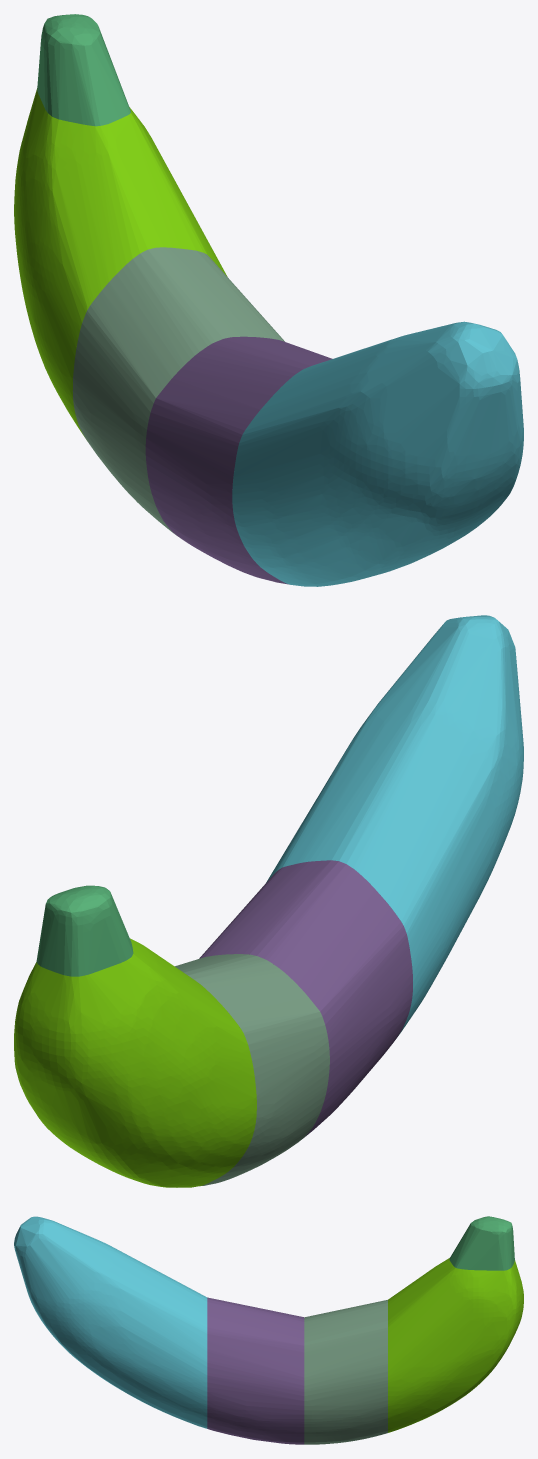
Rendered from coacd_collision.obj.
3 renders of one model, top to bottom at view 1: azimuth 30°, elevation 25°; view 2: azimuth 150°, elevation 25°; view 3: azimuth 270°, elevation 25°, orthographic. The views are drawn at different scales.
Parts seen in each view (by area): view 1: geometry_2, geometry_4, geometry_0, geometry_1, geometry_3; view 2: geometry_2, geometry_4, geometry_1, geometry_0, geometry_3; view 3: geometry_2, geometry_4, geometry_1, geometry_0, geometry_3.
Part boxes in pixels (left/top/right/bottom): geometry_2: left=232, top=321, right=523, bottom=586; geometry_4: left=14, top=88, right=227, bottom=436; geometry_0: left=72, top=247, right=284, bottom=535; geometry_1: left=145, top=336, right=332, bottom=584; geometry_3: left=37, top=14, right=130, bottom=126; geometry_2: left=266, top=615, right=523, bottom=1035; geometry_4: left=14, top=938, right=256, bottom=1187; geometry_1: left=199, top=860, right=412, bottom=1137; geometry_0: left=175, top=954, right=329, bottom=1186; geometry_3: left=36, top=885, right=133, bottom=976; geometry_2: left=14, top=1216, right=207, bottom=1428; geometry_4: left=388, top=1258, right=523, bottom=1432; geometry_1: left=207, top=1297, right=304, bottom=1444; geometry_0: left=304, top=1300, right=387, bottom=1444; geometry_3: left=449, top=1216, right=514, bottom=1270.
Bounding box in the file's own units: 39.02 × 81.38 × 171.
